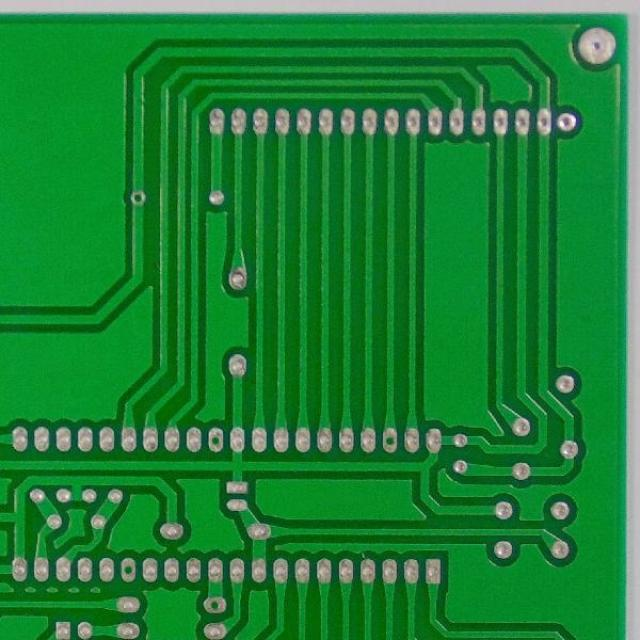missing_hole: (380, 427, 401, 453), (205, 596, 225, 616), (119, 560, 138, 581), (207, 430, 225, 451), (130, 189, 147, 208)
